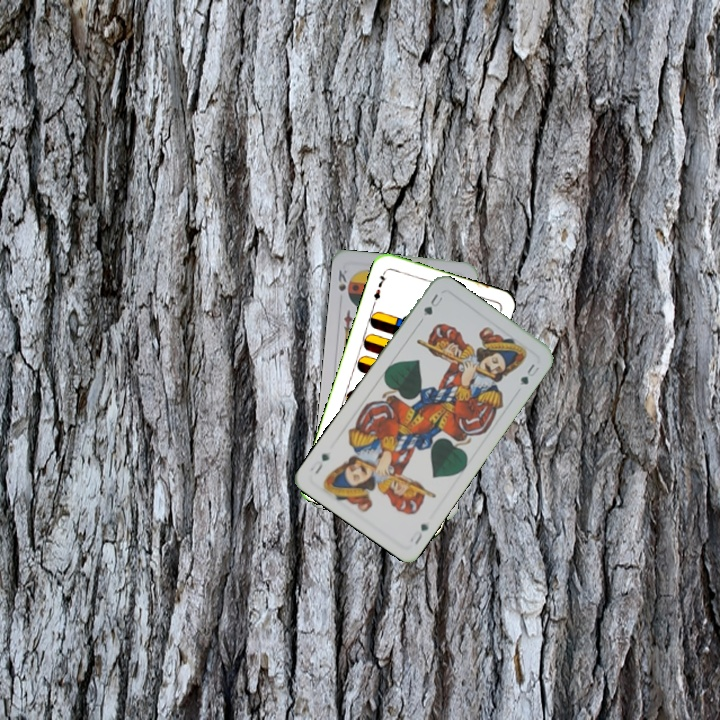E7: (369, 267, 389, 307)
GU: (419, 289, 445, 320), (410, 519, 431, 547)
SK: (334, 266, 351, 294)
